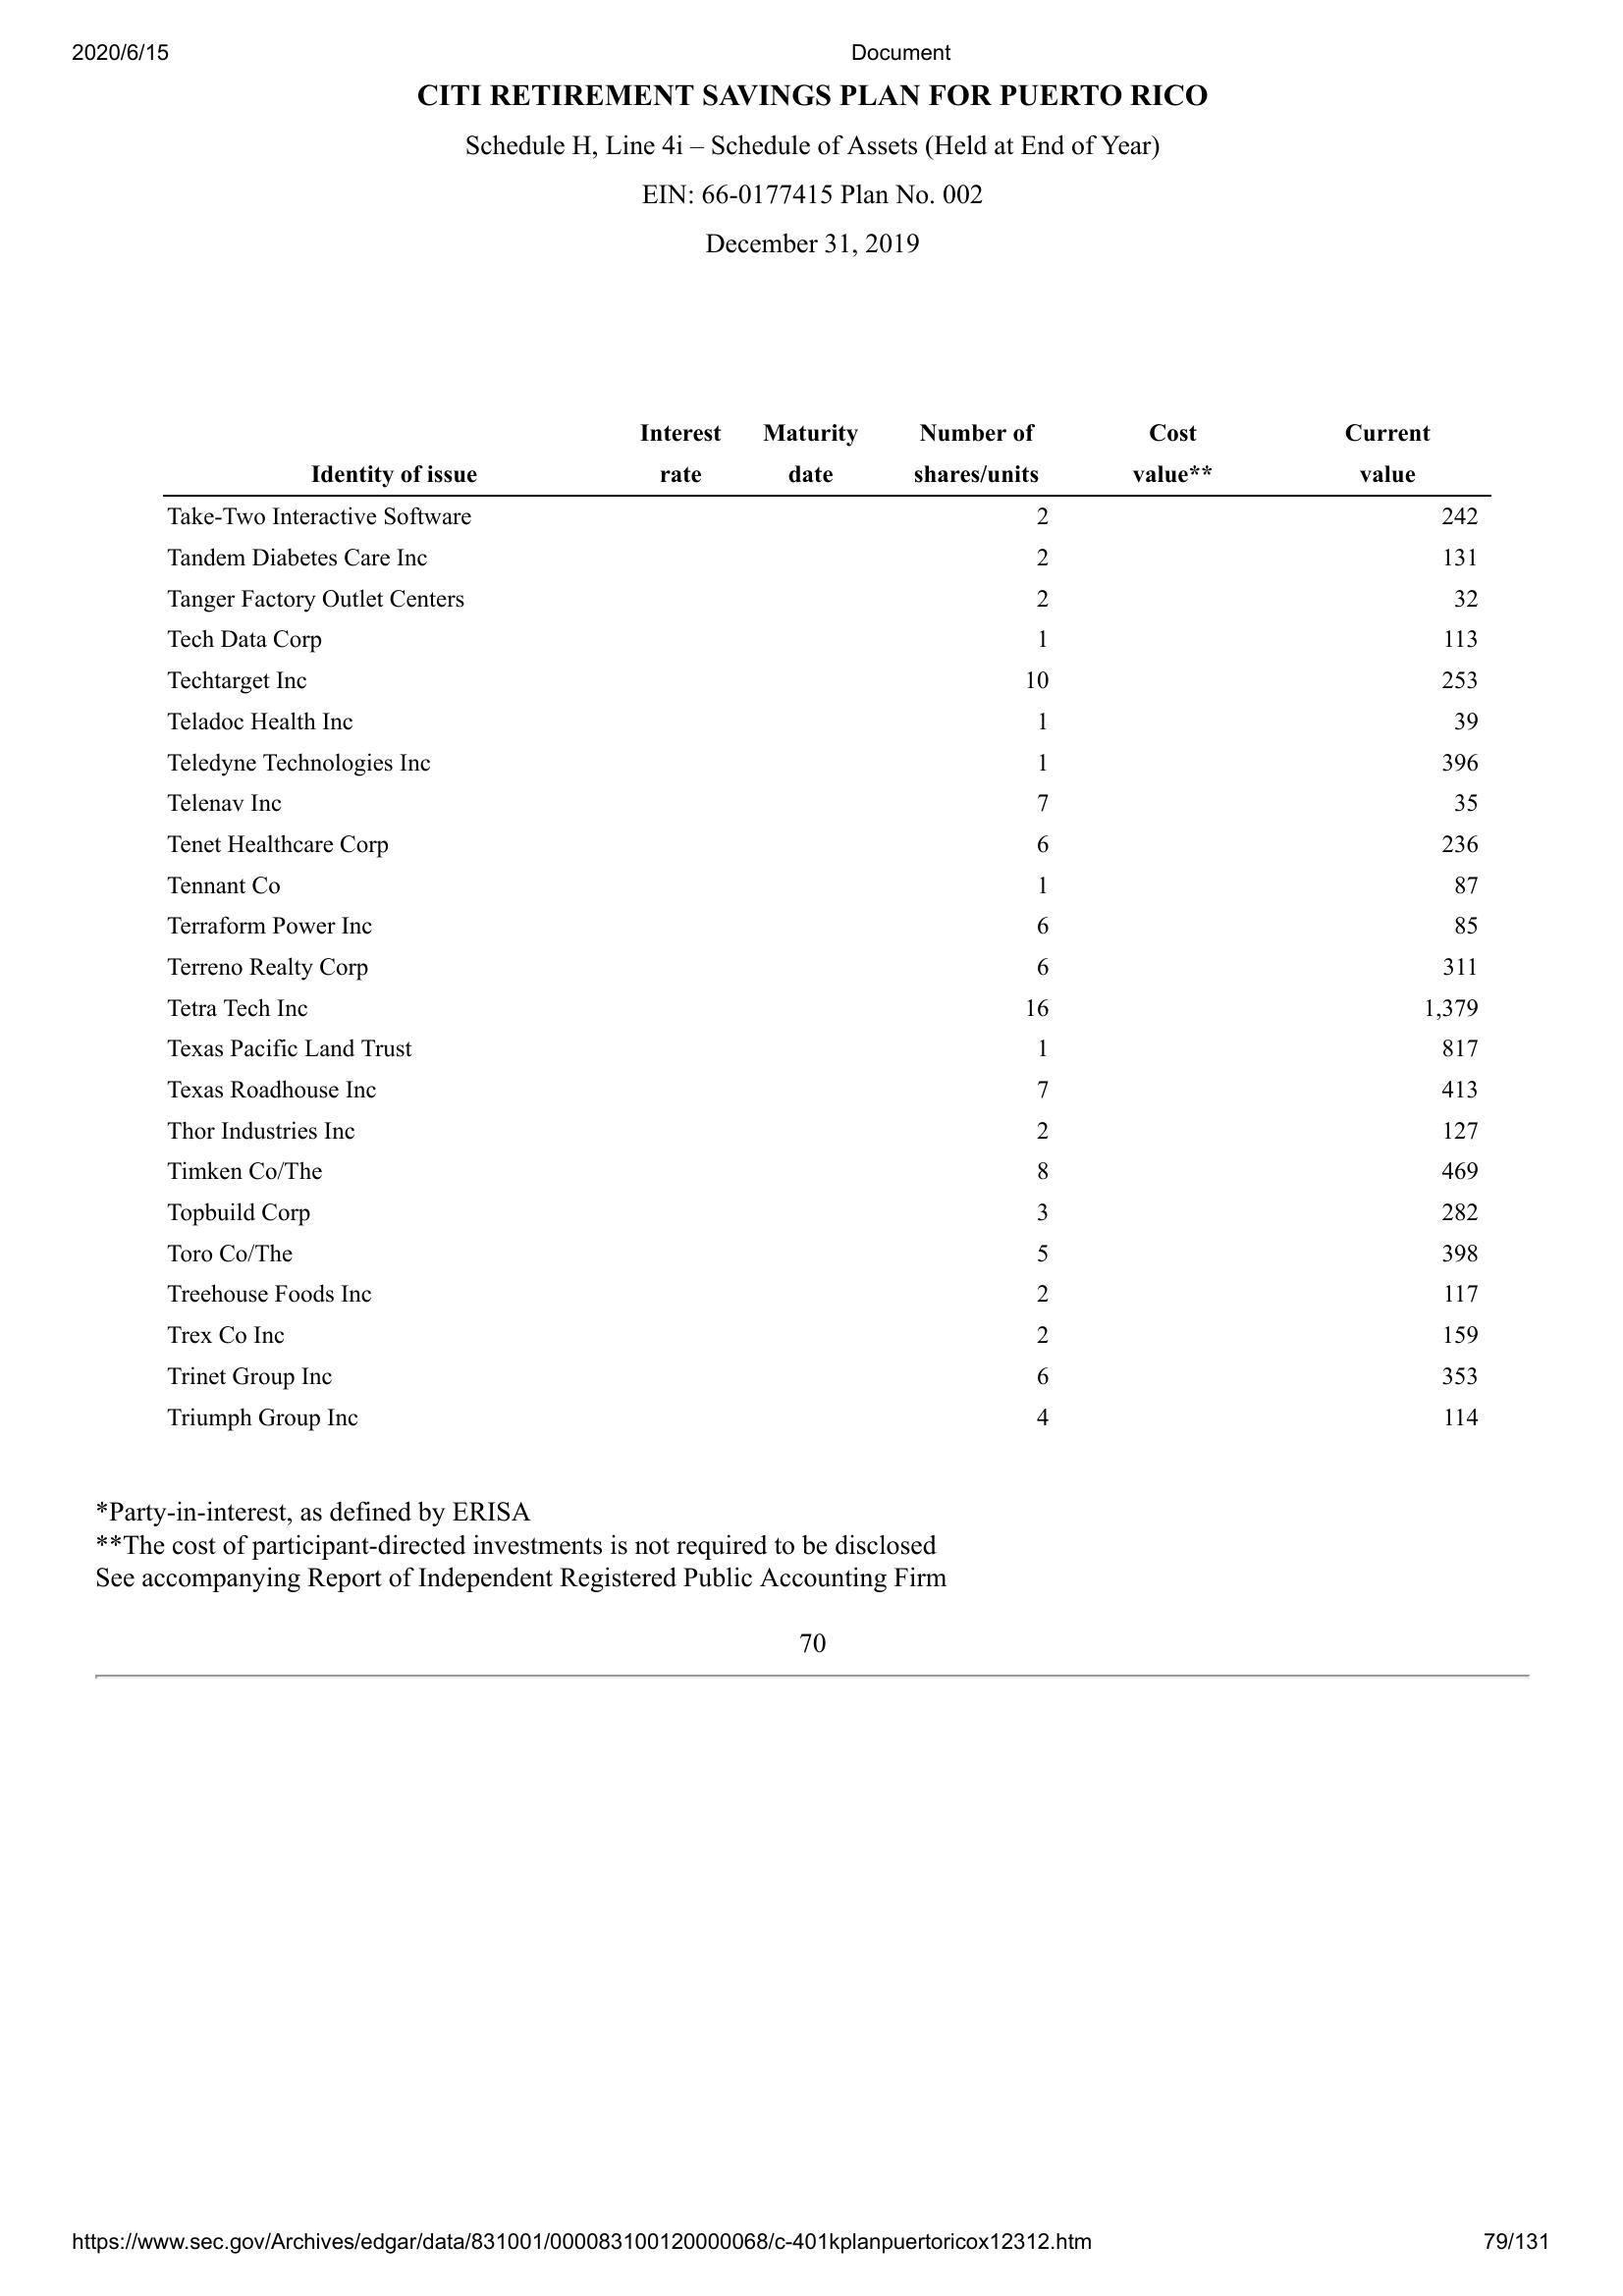table: (148, 405, 1490, 1436)
